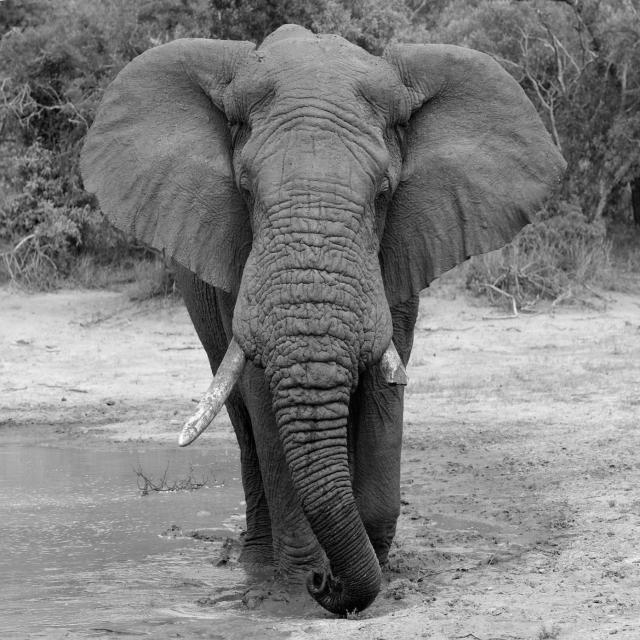Elephant: (78, 22, 568, 617)
